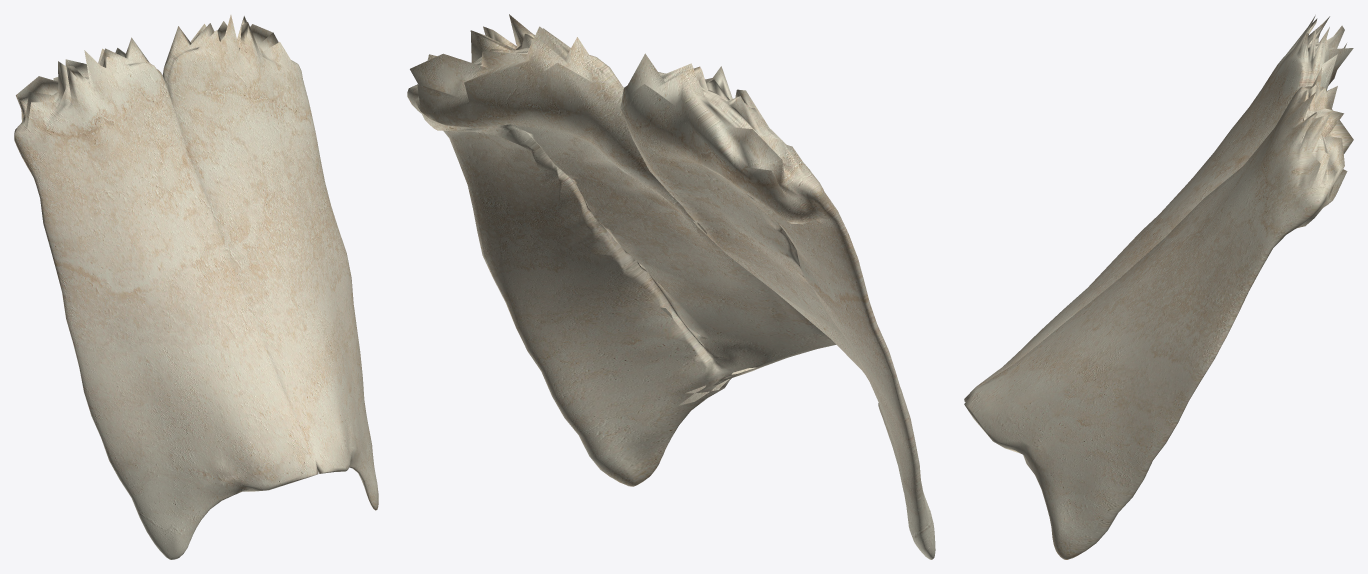
The model's file is nasal_bone__hueso_nasal.glb.
3 views of the same model, side by side, from view 1: azimuth 30°, elevation 25°; view 2: azimuth 150°, elevation 25°; view 3: azimuth 270°, elevation 25° (orthographic). The views are drawn at different scales.
Parts seen in each view (by area): view 1: Object_2; view 2: Object_2; view 3: Object_2.
Part boxes in pixels (<box>): Object_2: <box>14,15,378,559</box>; Object_2: <box>407,14,935,559</box>; Object_2: <box>964,15,1353,559</box>.
Size of the model in its own units: 2.01 by 2.8 by 2.19.
1 material, 1 textured.
